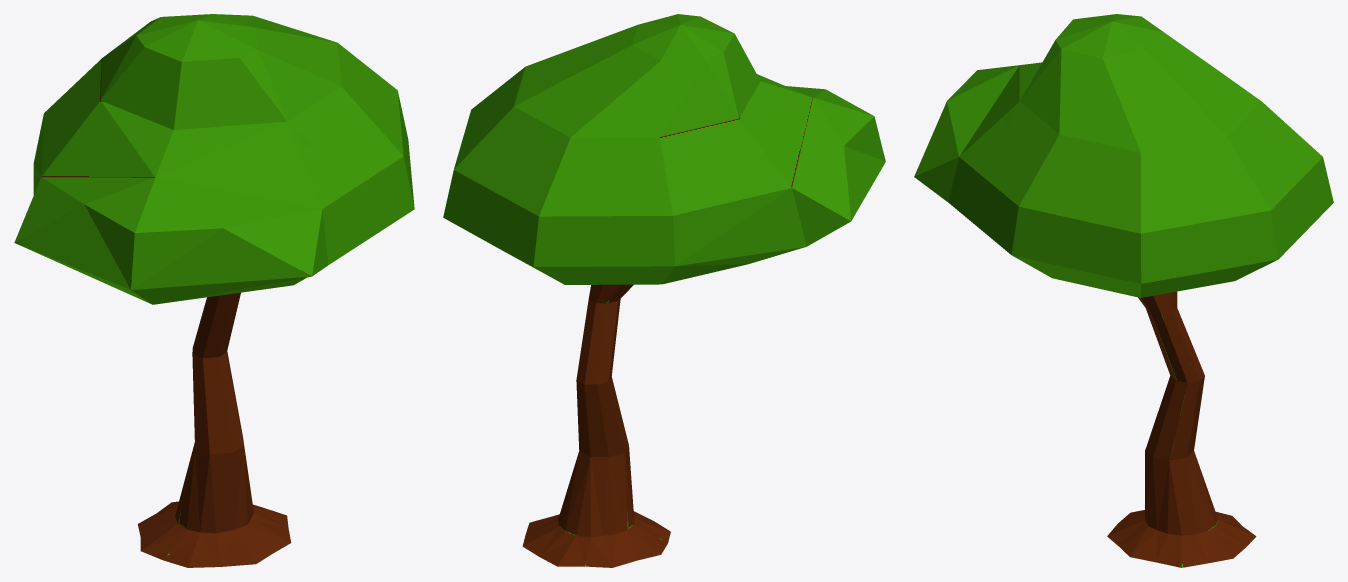
The model's file is first_tree.glb.
The picture shows the model from 3 angles, left to right: view 1: azimuth 30°, elevation 25°; view 2: azimuth 150°, elevation 25°; view 3: azimuth 270°, elevation 25°; orthographic projection. The views are drawn at different scales.
Parts seen in each view (by area): view 1: Cube; view 2: Cube; view 3: Cube.
Boxes of the visible parts, bbox=[...] form: Cube: bbox=[14, 14, 414, 567]; Cube: bbox=[443, 14, 885, 567]; Cube: bbox=[914, 14, 1333, 567].
Size of the model in its own units: 2.82 by 3.62 by 2.81.
Materials: 1 (1 with a texture image).
